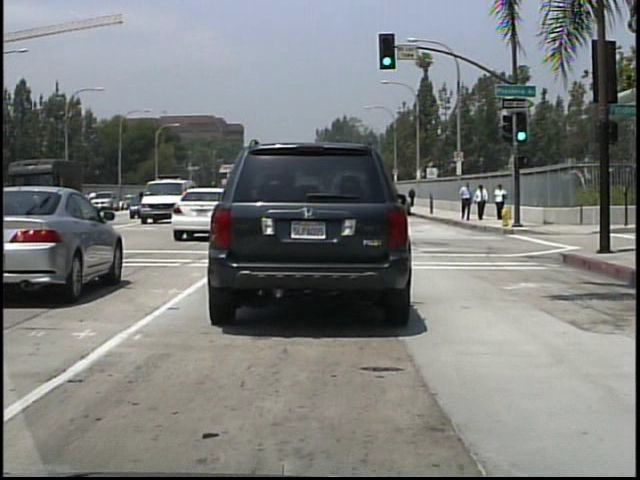person: (458, 179, 474, 222), (474, 185, 489, 222), (493, 184, 506, 217), (409, 186, 417, 208)
